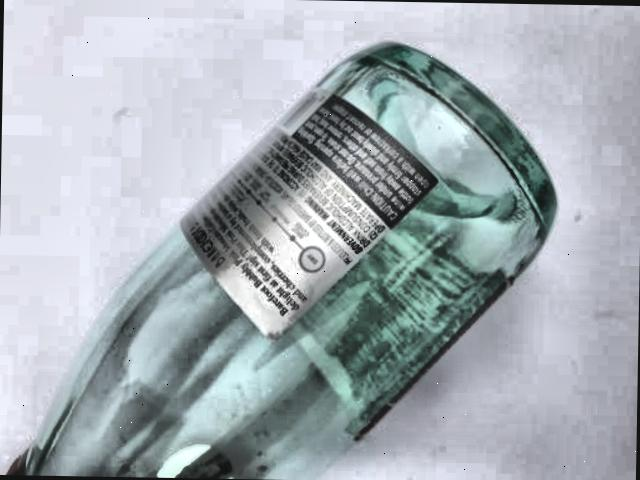Almennt: (0, 22, 574, 480)
